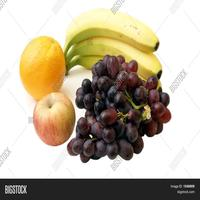apple: (27, 94, 77, 148)
banane: (61, 10, 175, 86)
orange: (18, 35, 69, 98)
